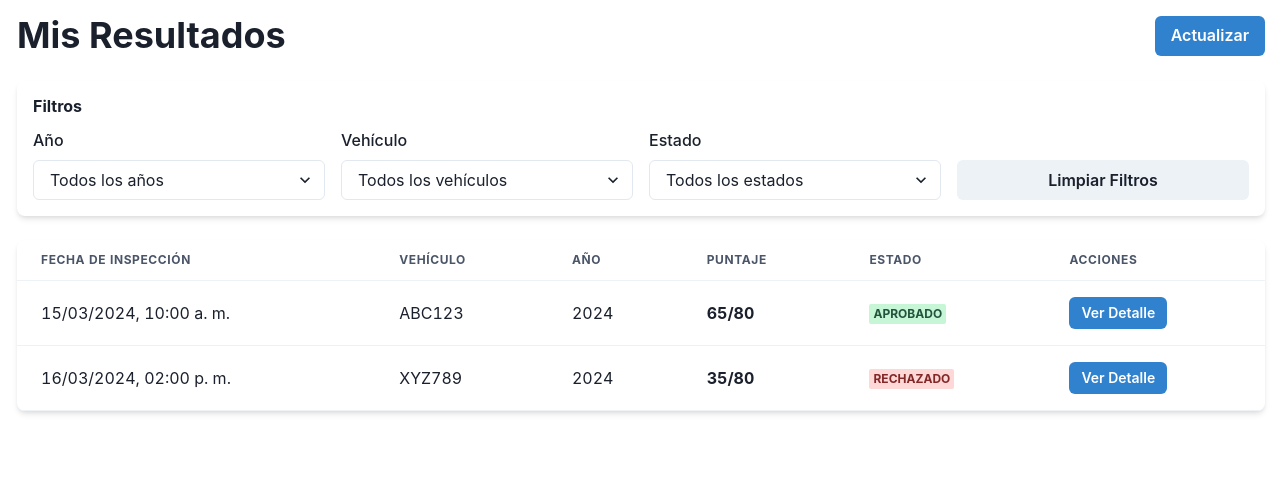
Test case: InspectionResultsPage › error handling › should display error and close modal when loading detail fails
The width and height of the screenshot is (1283, 504).
What coordinates should you click on to do the following:
click the button "Ver Detalle" in the row of "15/03/2024, 10:00 a. m."
I would click on:
 (1118, 313)
Its box is [1069,297,1167,329].
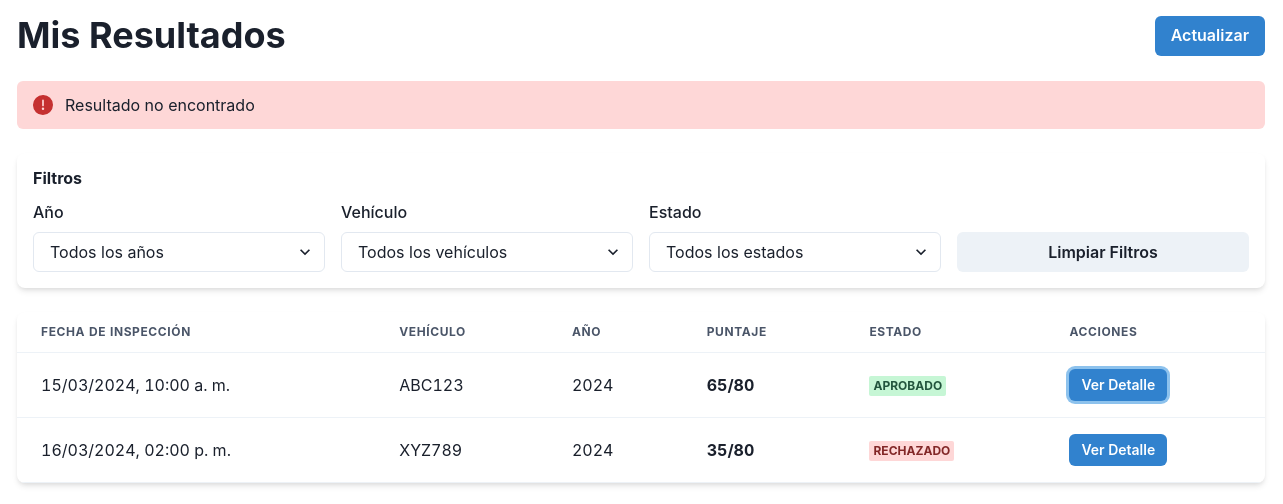
Result: the text "Resultado no encontrado" is shown at [17,81,1265,129]
